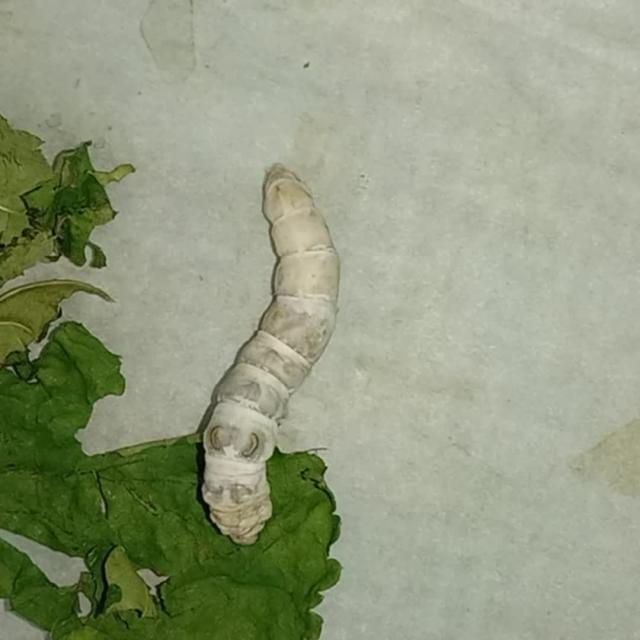Grasserie: (176, 134, 378, 568)
